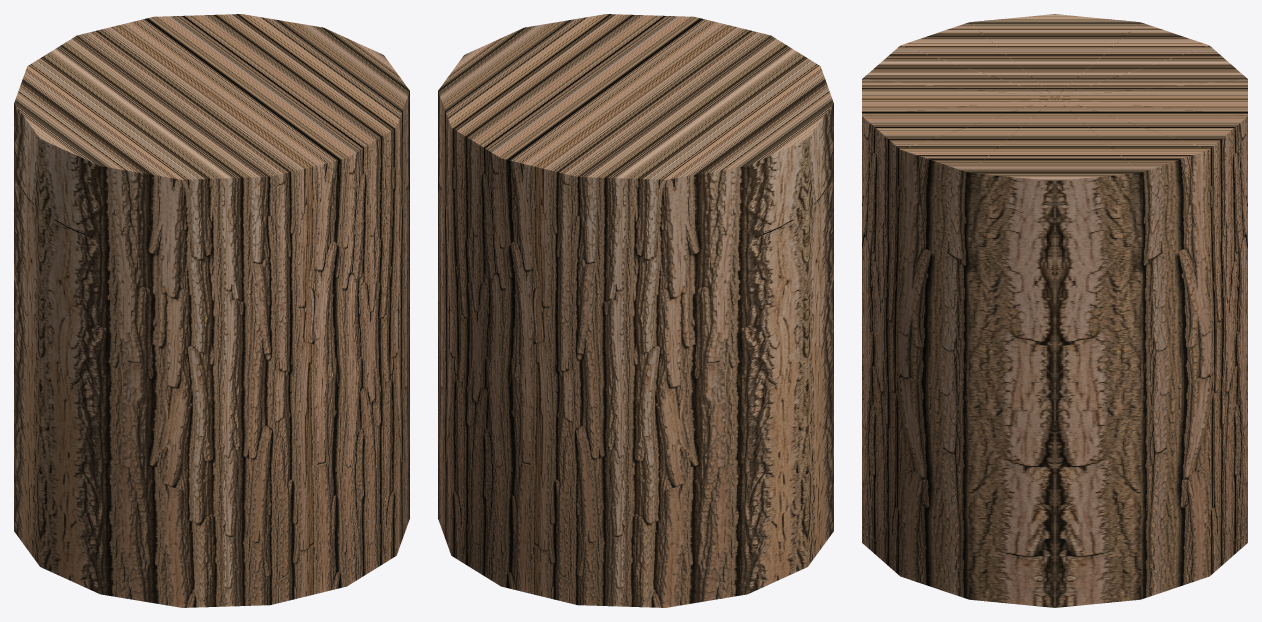
The model's file is oaklogv.glb.
3 views of the same model, side by side, from view 1: azimuth 30°, elevation 25°; view 2: azimuth 150°, elevation 25°; view 3: azimuth 270°, elevation 25° (orthographic).
Parts seen in each view (by area): view 1: Birch_Log_H_Birch; view 2: Birch_Log_H_Birch; view 3: Birch_Log_H_Birch.
Boxes of the visible parts, <box> form: Birch_Log_H_Birch: <box>14,14,409,607</box>; Birch_Log_H_Birch: <box>438,14,833,607</box>; Birch_Log_H_Birch: <box>862,14,1247,607</box>.
Bounding box in the file's own units: 0.84 × 1 × 0.8189.
Materials: 1 (1 with a texture image).
